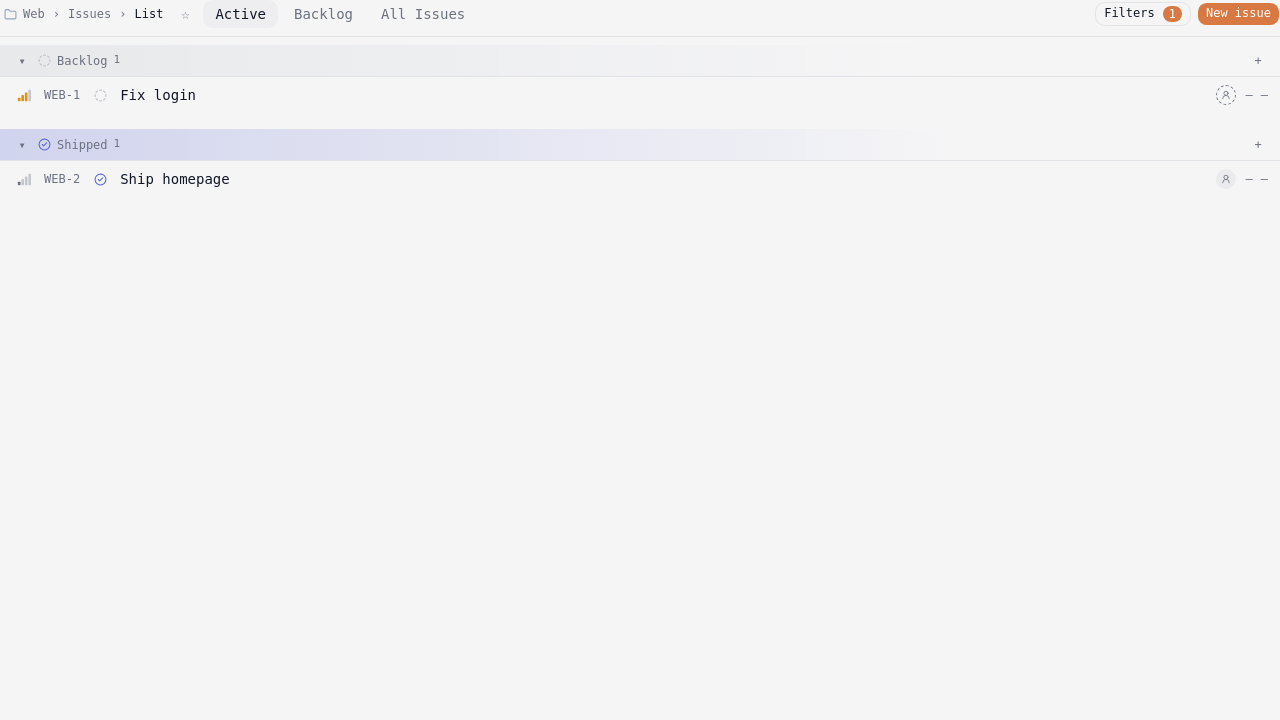
Test: project issues views › list, table, and kanban share one filter bar
The image size is (1280, 720).
Expected: the text "WEB-1" is shown, top-left (44, 87), bottom-right (80, 103)
Click the button "Filters 1": (1143, 14) top-left (1095, 2), bottom-right (1191, 26)
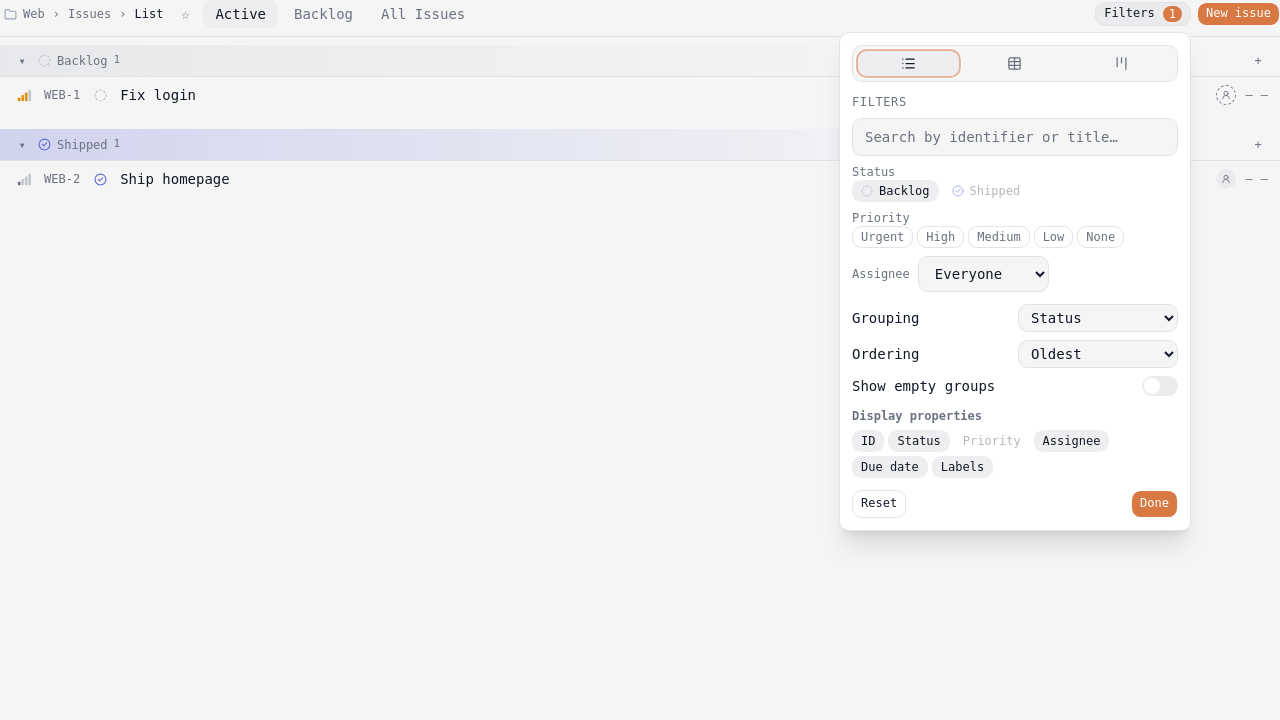
Expected: the element named "Issue filter presets" is shown, top-left (203, 0), bottom-right (477, 28)
Expected: the element named "Issue views" is shown, top-left (852, 45), bottom-right (1178, 82)
Click the tab named "Table": (1015, 64) top-left (964, 50), bottom-right (1066, 77)
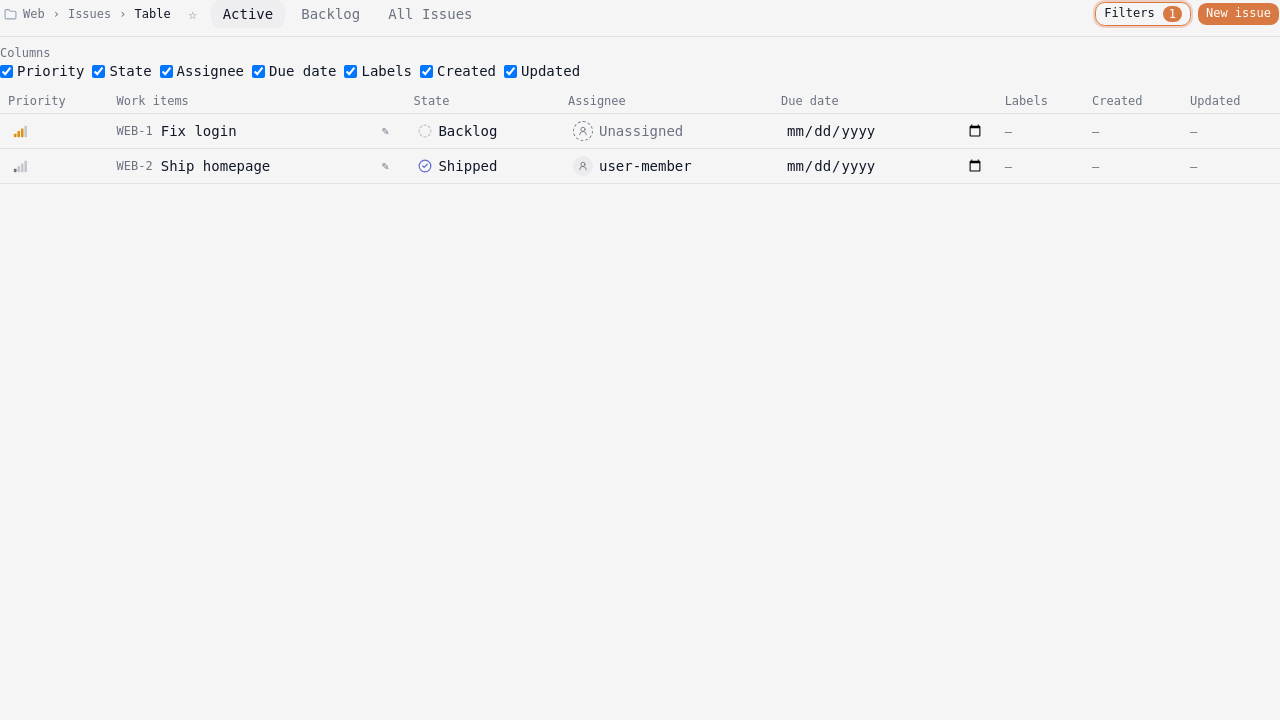
Expected: the row with test id "issue-row-WEB-1" is shown, top-left (0, 114), bottom-right (1279, 148)
Click the button "Filters 1": (1143, 14) top-left (1095, 2), bottom-right (1191, 26)
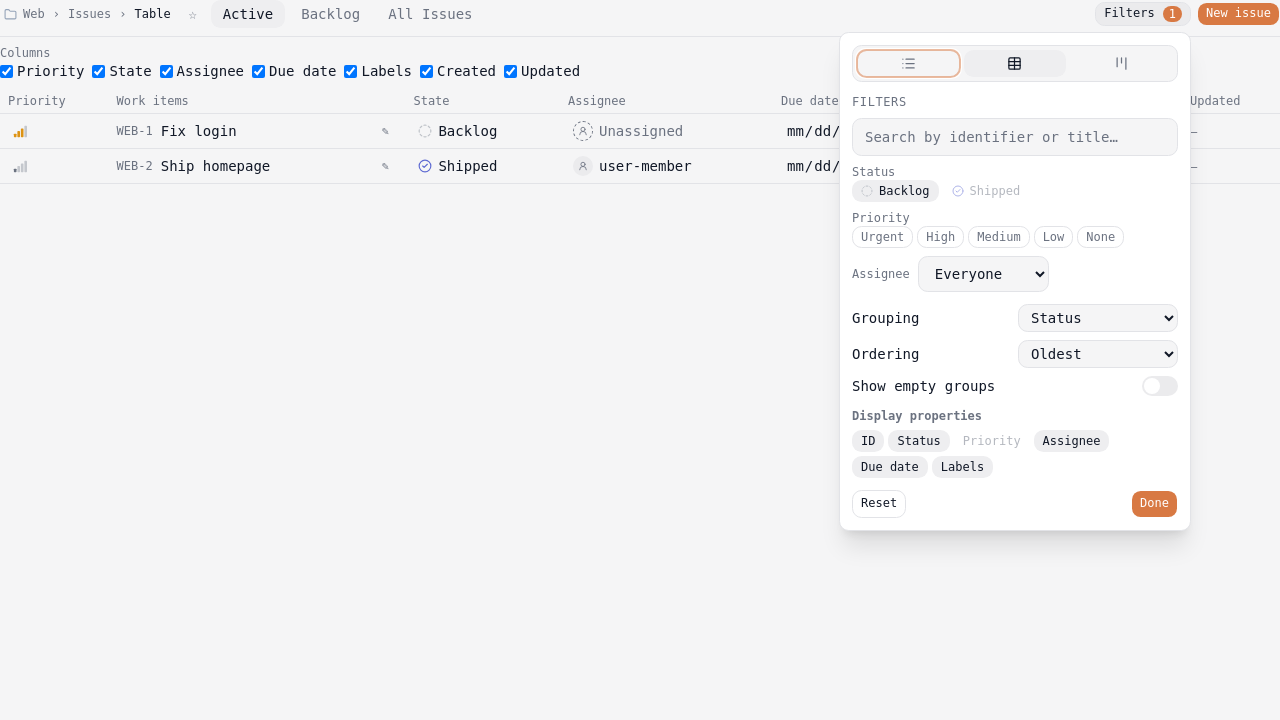
Click the tab named "Kanban": (1122, 64) top-left (1070, 50), bottom-right (1173, 77)
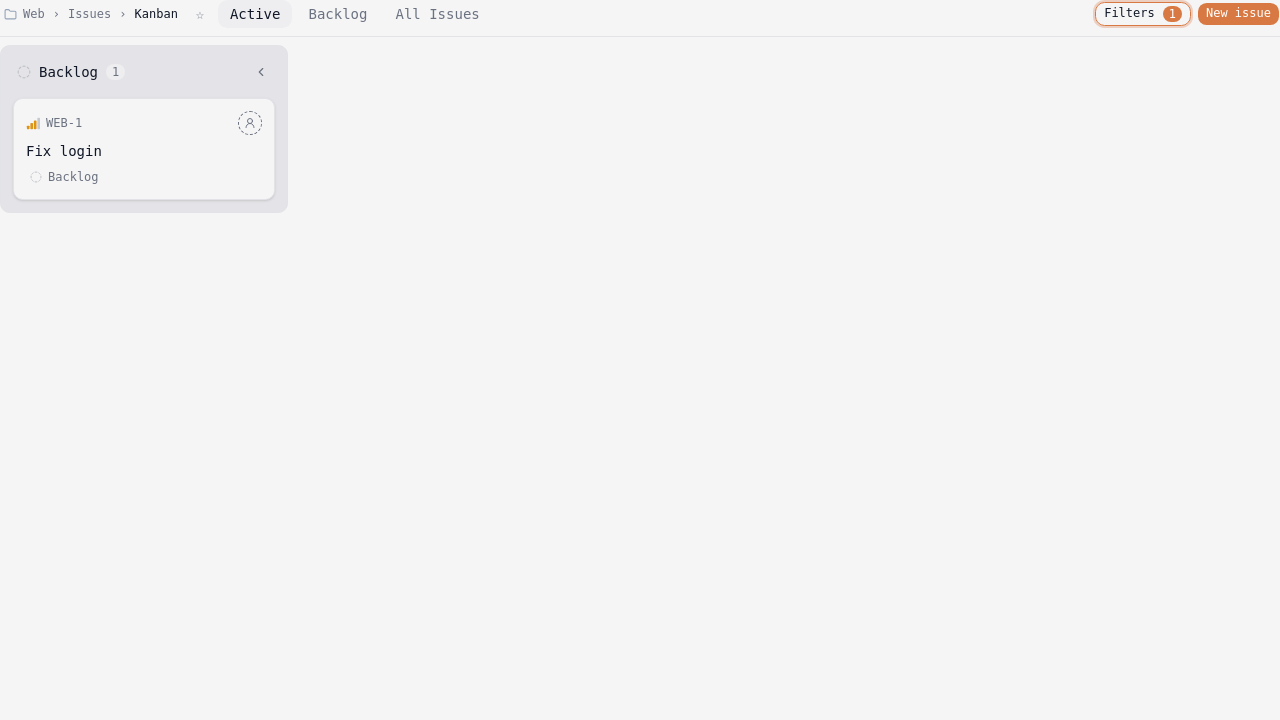
Expected: the button "Filters 1" is shown, top-left (1095, 2), bottom-right (1191, 26)
Expected: the element with test id "kanban-card-WEB-1" is shown, top-left (13, 98), bottom-right (275, 200)
